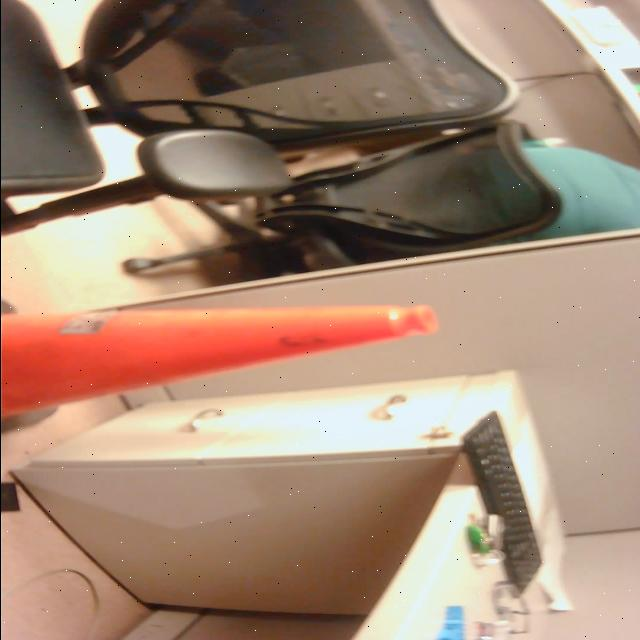traffic cone: (1, 292, 446, 448)
